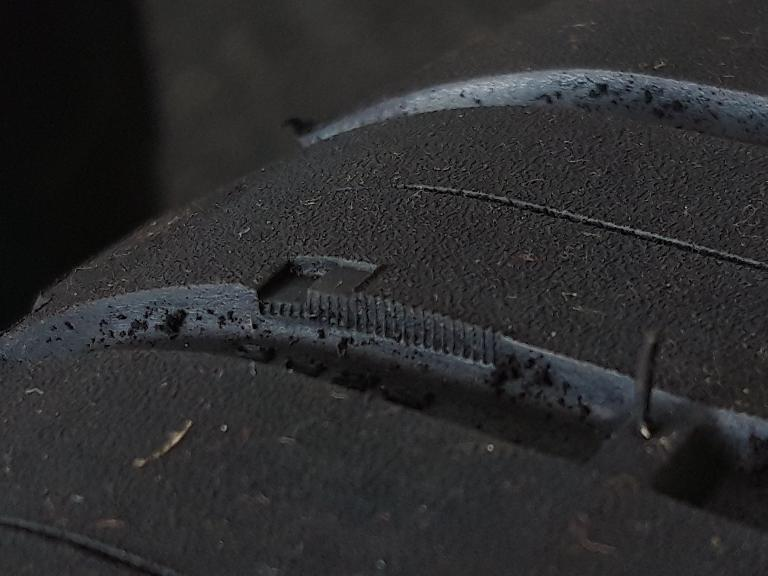temoin:25: (247, 248, 385, 343)
